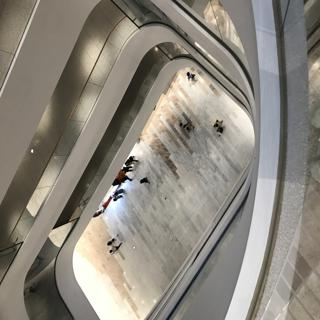person: (105, 233, 127, 257), (208, 119, 226, 139), (182, 67, 199, 85), (137, 173, 154, 190)
